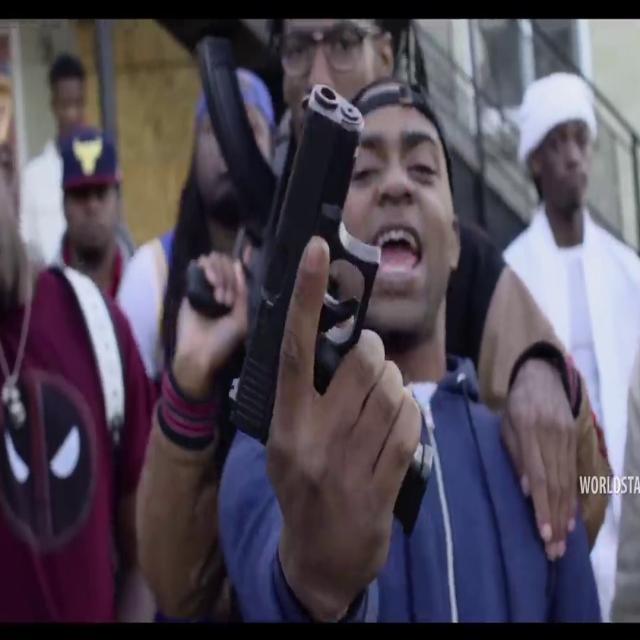Handgun: (230, 77, 437, 575)
